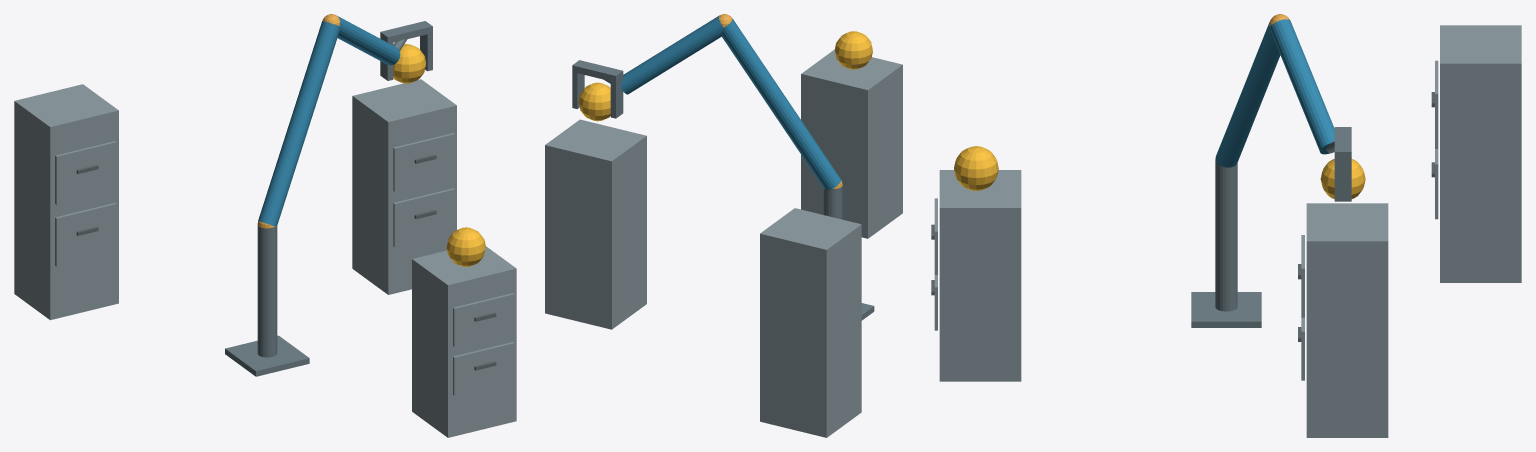
3 views of the same model, side by side, from view 1: azimuth 30°, elevation 25°; view 2: azimuth 150°, elevation 25°; view 3: azimuth 270°, elevation 25° (orthographic). The views are drawn at different scales.
Parts seen in each view (by area): view 1: cabinet_3 body, cabinet_2 body, cabinet_1 body, moving link 1, cabinet_3 drawer front, cabinet_3 drawer front.001, fixed post, cabinet_2 drawer front, cabinet_2 drawer front.001, cabinet_1 drawer front, cabinet_1 drawer front.001, pedestal (+4 smaller); view 2: cabinet_3 body, cabinet_2 body, cabinet_1 body, moving link 1, moving link 2, released ball_1, ball ball_2, gripper bridge, fixed post, gripper finger -1, gripper finger 1; view 3: cabinet_3 body, cabinet_2 body, cabinet_1 body, fixed post, moving link 1, moving link 2, pedestal, released ball_1, ball ball_2, gripper finger 1, gripper bridge.
Boxes of the visible parts, <box> form: cabinet_3 body: <box>14,84,118,320</box>; cabinet_2 body: <box>352,79,456,294</box>; cabinet_1 body: <box>412,246,516,437</box>; moving link 1: <box>258,21,339,226</box>; cabinet_3 drawer front: <box>55,203,116,266</box>; cabinet_3 drawer front.001: <box>55,141,116,204</box>; fixed post: <box>257,225,277,357</box>; cabinet_2 drawer front: <box>393,188,454,246</box>; cabinet_2 drawer front.001: <box>393,133,454,191</box>; cabinet_1 drawer front: <box>453,342,514,395</box>; cabinet_1 drawer front.001: <box>453,293,514,346</box>; pedestal: <box>225,335,309,376</box>; cabinet_3 body: <box>760,208,861,437</box>; cabinet_2 body: <box>545,119,646,329</box>; cabinet_1 body: <box>801,49,902,238</box>; moving link 1: <box>721,18,841,189</box>; moving link 2: <box>620,15,723,94</box>; released ball_1: <box>834,31,872,69</box>; ball ball_2: <box>578,82,610,121</box>; gripper bridge: <box>572,60,623,82</box>; fixed post: <box>823,185,842,219</box>; gripper finger -1: <box>610,77,623,118</box>; gripper finger 1: <box>572,72,584,109</box>; cabinet_3 body: <box>1440,25,1521,282</box>; cabinet_2 body: <box>1306,203,1388,437</box>; cabinet_1 body: <box>939,170,1021,381</box>; fixed post: <box>1215,161,1237,311</box>; moving link 1: <box>1215,21,1280,167</box>; moving link 2: <box>1270,19,1334,154</box>; pedestal: <box>1191,292,1261,327</box>; released ball_1: <box>954,146,998,190</box>; ball ball_2: <box>1320,159,1365,199</box>; gripper finger 1: <box>1334,159,1351,201</box>; gripper bridge: <box>1334,127,1351,159</box>.
Size of the model in its own units: 1.62 by 1.36 by 2.1.
